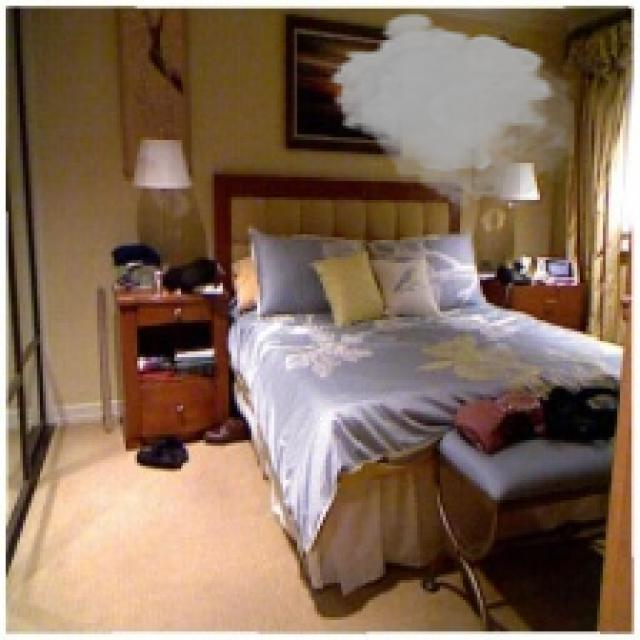smoke: (326, 12, 574, 215)
